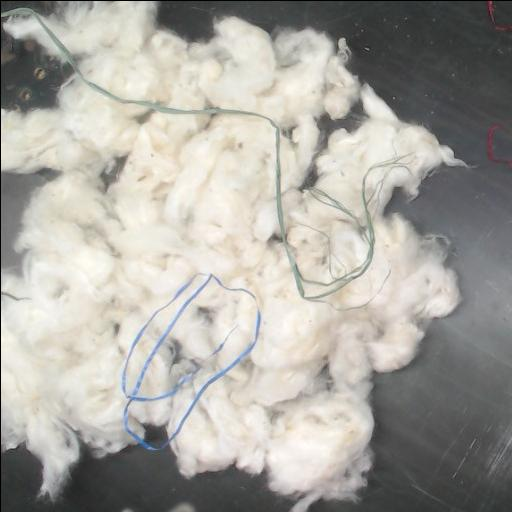conveyor belt: (158, 1, 512, 512), (1, 446, 291, 512)
cotton: (1, 1, 464, 508)
thread: (1, 7, 406, 301), (121, 274, 260, 448)
